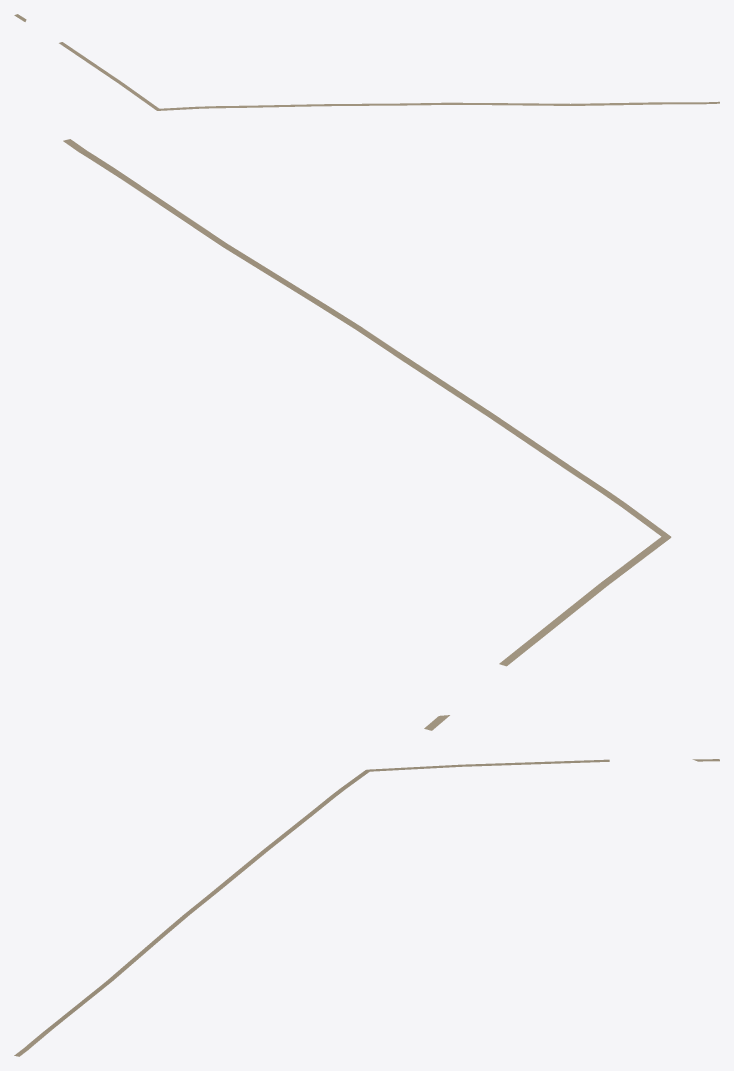
File: farm_15_9_track.glb
3 renders of one model, top to bottom at view 1: azimuth 30°, elevation 25°; view 2: azimuth 150°, elevation 25°; view 3: azimuth 270°, elevation 25°, orthographic. The views are drawn at different scales.
Visible parts, largest first — view 1: geometry_0; view 2: geometry_0; view 3: geometry_0.
Boxes of the visible parts, box(x1,y1,x2,y2) form: geometry_0: box(14, 14, 719, 110); geometry_0: box(63, 139, 671, 730); geometry_0: box(14, 759, 719, 1056).
Size of the model in its own units: 373 by 5.04 by 381.
